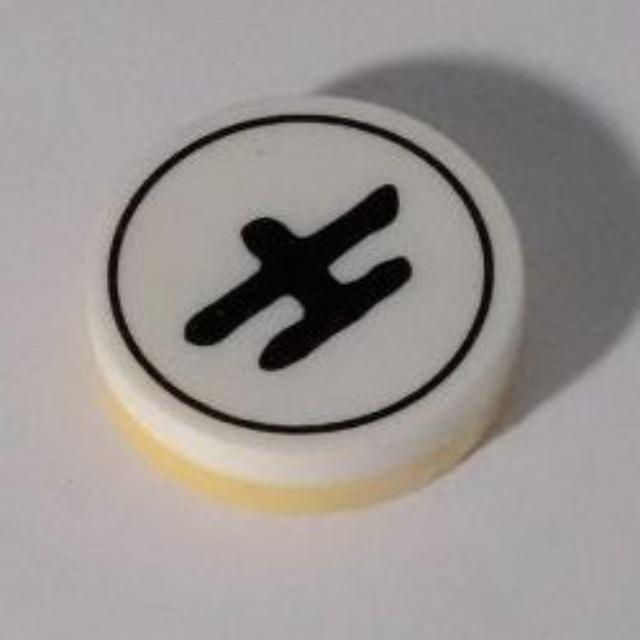black_si: (79, 86, 537, 515)
